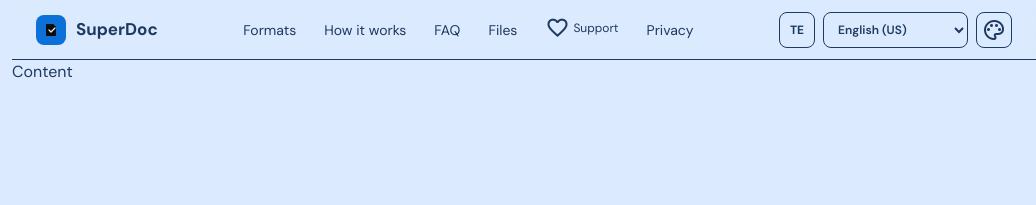
Test: AppShell › renders aligned account menu actions
Click the button "TE" at [797, 30], box x1=779 y1=12 x2=815 y2=48
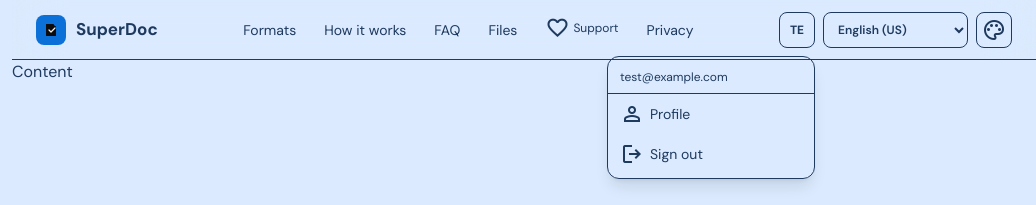
Now the link "Profile" is shown, box x1=620 y1=100 x2=690 y2=128
Now the button "Sign out" is shown, box x1=608 y1=134 x2=814 y2=174
Now the text "test@example.com" is shown, box x1=620 y1=68 x2=728 y2=84
